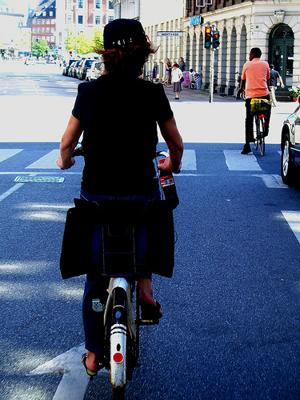person: (56, 20, 186, 380)
